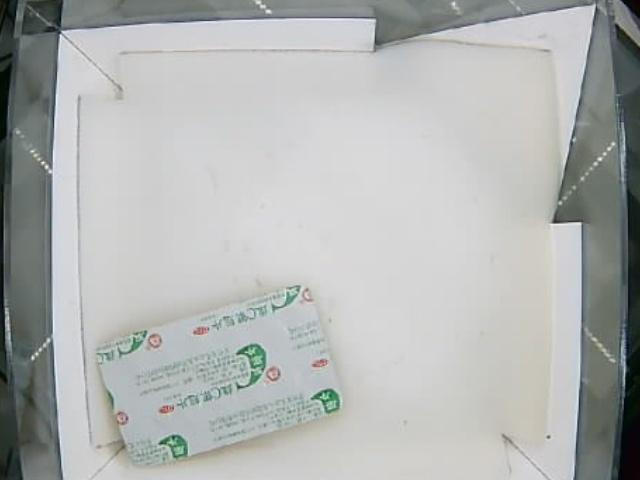Medicine: (93, 285, 346, 463)
